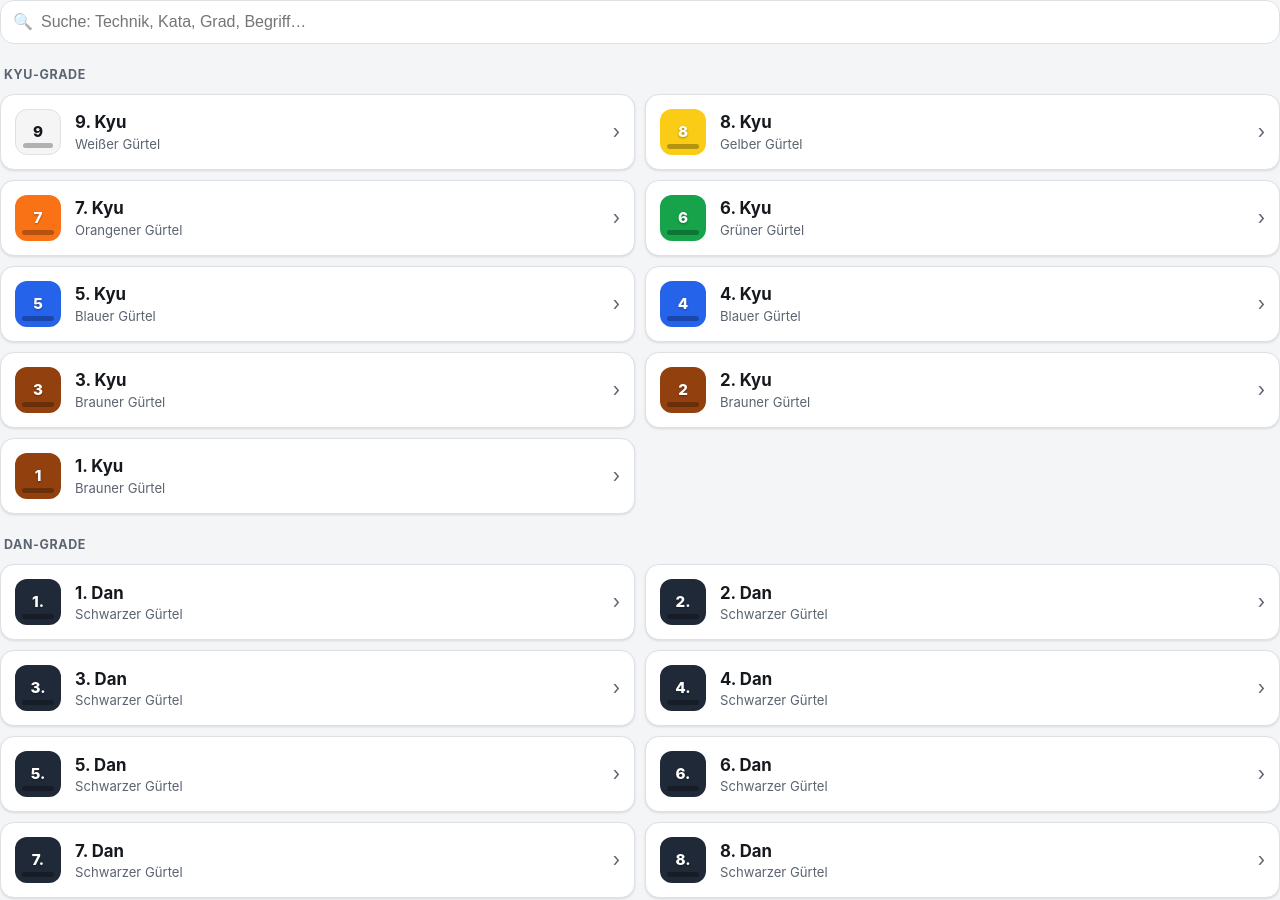
Test: HomePage › shows the empty state for a no-match query
This screenshot has width=1280, height=900.
Type "zzzzzzz" into the search field with placeholder "Suche: Technik, Kata, Grad, Begriff…" at x=640, y=22, box [0,0,1279,44]
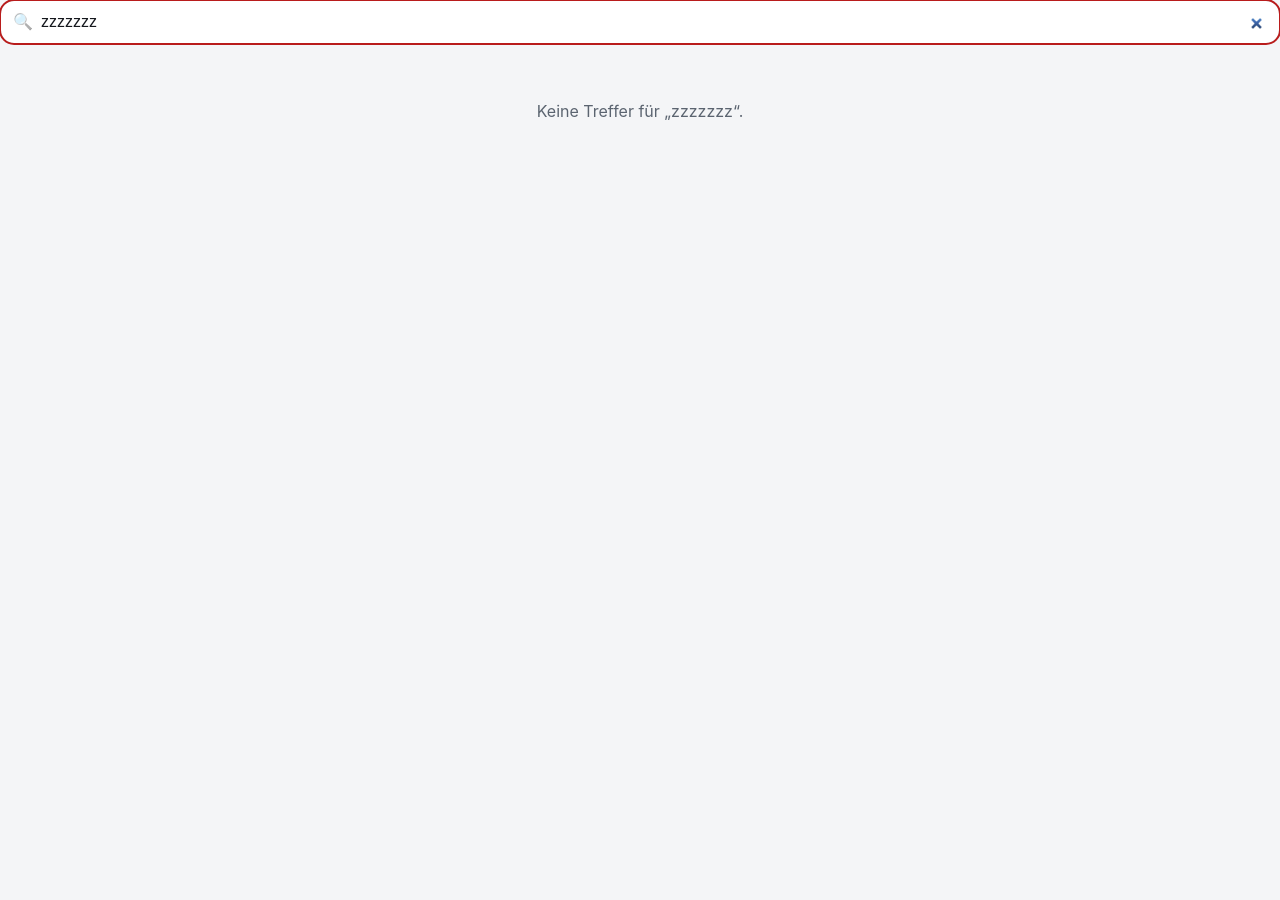
Check: the text "Keine Treffer für „zzzzzzz“." is shown, box [537,101,743,121]
